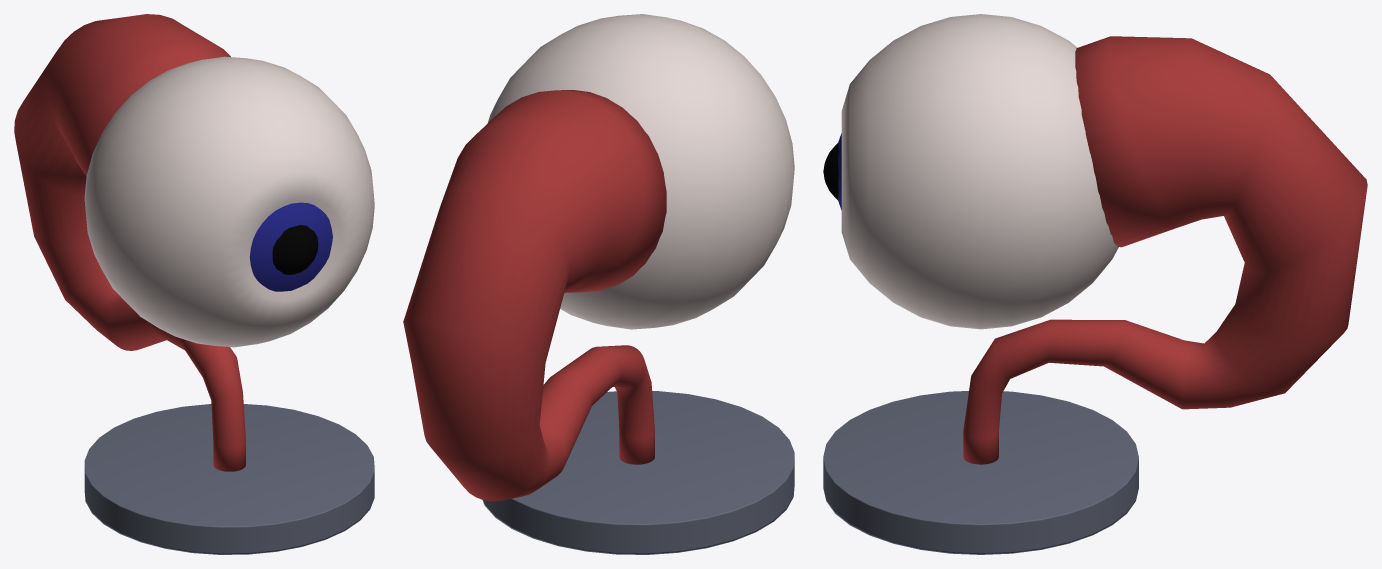
The model's file is EyeBallin.fbx.
3 views of the same model, side by side, from view 1: azimuth 30°, elevation 25°; view 2: azimuth 150°, elevation 25°; view 3: azimuth 270°, elevation 25° (orthographic). The views are drawn at different scales.
Visible parts, largest first — view 1: Sphere, Cylinder, Cylinder.001, Sphere.001, Sphere.002; view 2: Cylinder.001, Sphere, Cylinder; view 3: Cylinder.001, Sphere, Cylinder.
Boxes of the visible parts, x1=… form: Sphere: x1=84, y1=56, x2=374, y2=347; Cylinder: x1=84, y1=404, x2=374, y2=554; Cylinder.001: x1=14, y1=14, x2=245, y2=471; Sphere.001: x1=249, y1=202, x2=332, y2=291; Sphere.002: x1=272, y1=225, x2=318, y2=274; Cylinder.001: x1=403, y1=90, x2=666, y2=501; Sphere: x1=488, y1=14, x2=794, y2=329; Cylinder: x1=482, y1=391, x2=794, y2=554; Cylinder.001: x1=963, y1=36, x2=1367, y2=464; Sphere: x1=841, y1=14, x2=1118, y2=329; Cylinder: x1=823, y1=391, x2=1138, y2=554.
Bounding box in the file's own units: 200 × 321 × 345.
